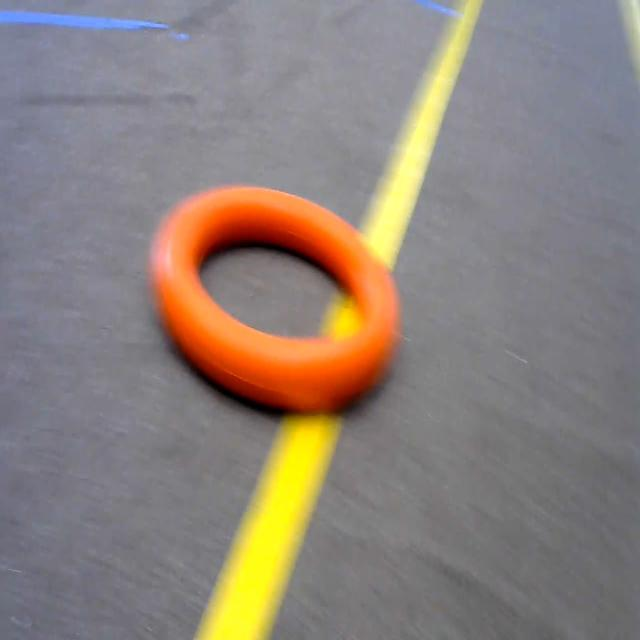note: (152, 157, 414, 440)
